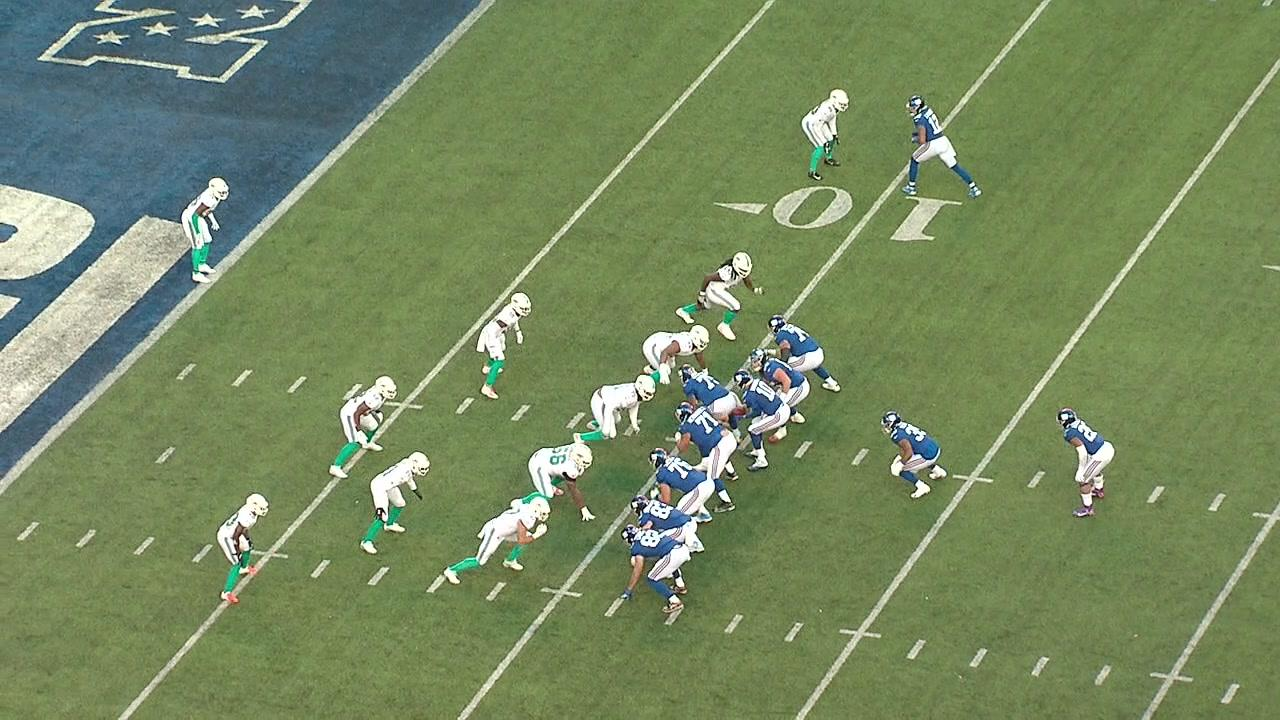defense: (441, 496, 554, 588), (673, 249, 768, 344), (359, 448, 434, 557), (327, 374, 400, 482), (508, 438, 599, 523), (474, 290, 535, 402), (572, 372, 659, 448), (215, 492, 271, 606), (179, 174, 231, 287), (799, 84, 855, 186), (640, 322, 714, 388)
oline: (768, 314, 845, 425), (645, 444, 719, 554), (672, 400, 741, 516), (747, 346, 812, 442), (678, 362, 745, 447)
qb: (727, 367, 794, 473)
skill: (895, 92, 985, 203), (1054, 404, 1117, 520), (617, 522, 693, 616), (879, 409, 949, 501), (628, 494, 696, 580)
